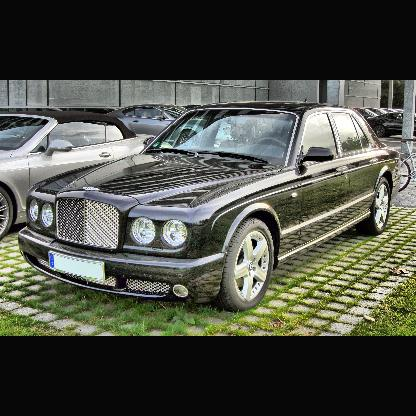Bentley Arnage Sedan 2009: (19, 99, 400, 308)
